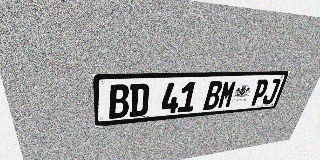1: (177, 82, 198, 113)
4: (161, 82, 182, 114)
B: (109, 84, 130, 119), (203, 81, 224, 110)
D: (129, 83, 150, 117)
J: (261, 79, 281, 105)
M: (217, 80, 238, 109)
P: (249, 79, 270, 106)
